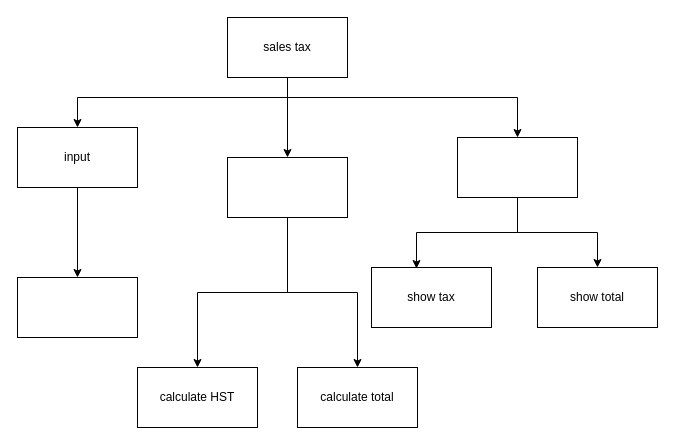
This 675x445 diagram has some shape labels left out. The shapes that lost their labels are listed below. From the top down, each one's centre as x and y in pixels, then its label:
the point at 287,187: process
the point at 517,167: output
the point at 77,307: get subtotal
